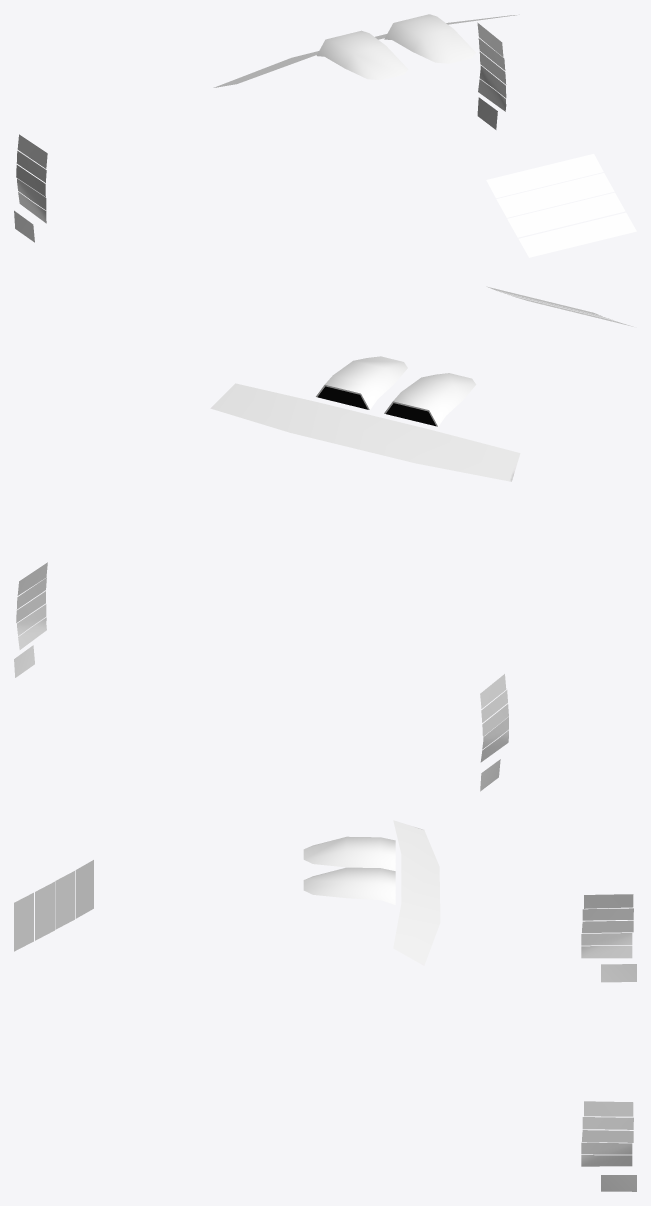
The picture shows the model from 3 angles, top to bottom: view 1: azimuth 30°, elevation 25°; view 2: azimuth 150°, elevation 25°; view 3: azimuth 270°, elevation 25°; orthographic projection. The views are drawn at different scales.
Visible parts, largest first — view 1: rf_c_l; view 2: rf_c_l; view 3: rf_c_l.
Boxes of the visible parts, x1=… form: rf_c_l: x1=14, y1=14, x2=636, y2=257; rf_c_l: x1=14, y1=286, x2=633, y2=791; rf_c_l: x1=14, y1=820, x2=636, y2=1191.
Bounding box in the file's own units: 2.09 × 1.06 × 2.61.
3 materials, 3 textured.
